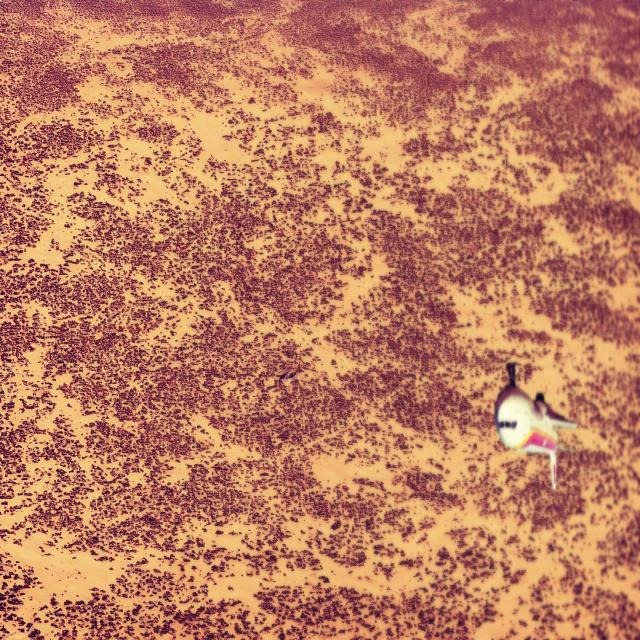airplane: (494, 361, 578, 490)
